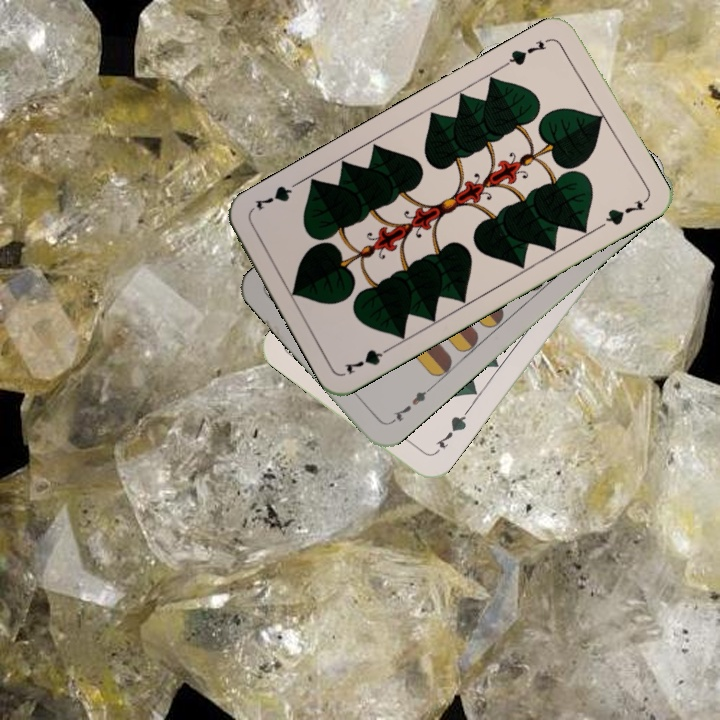E7: (386, 383, 434, 427)
G7: (340, 341, 396, 377), (501, 34, 555, 70), (432, 407, 471, 451)
